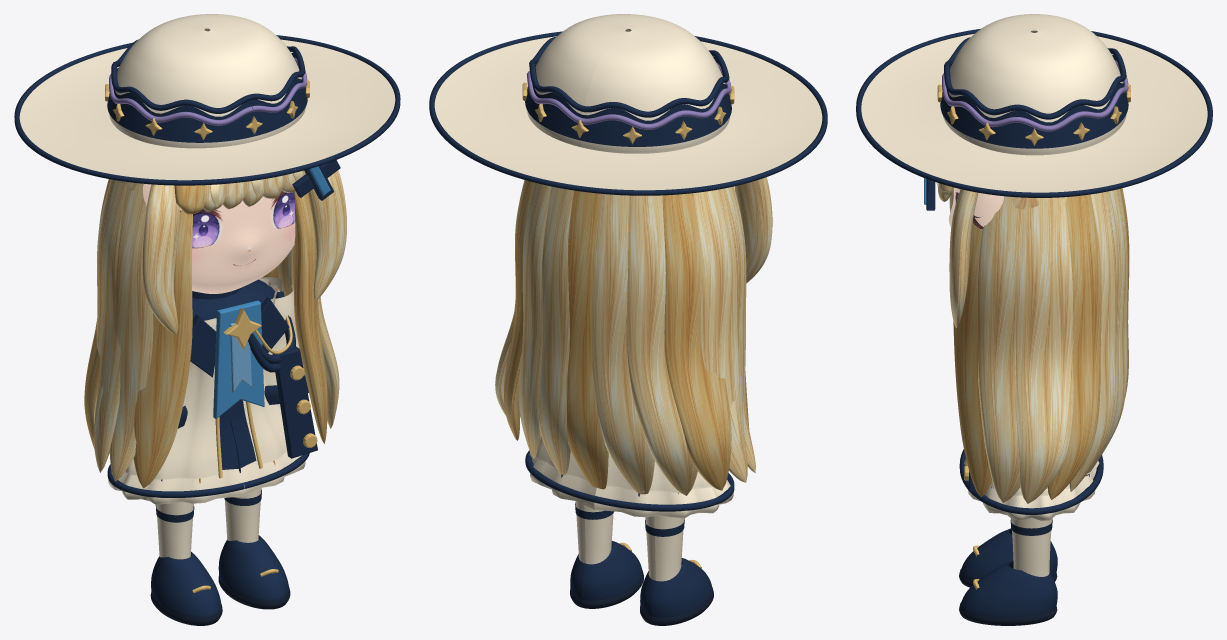
File: phoebe.glb
3 renders of one model, left to right at view 1: azimuth 30°, elevation 25°; view 2: azimuth 150°, elevation 25°; view 3: azimuth 270°, elevation 25°, orthographic. The views are drawn at different scales.
Visible parts, largest first — view 1: hat-brim, hat-dome, sculpted-face, long-lock-12, long-lock-11, shoe-upper (×2), white-tailored-coat, long-lock-10, long-lock-0, hat-navy-band, face-framing-lock--1, brim-ink-edge (+19 smaller); view 2: hat-brim, hat-dome, long-lock-9, long-lock-8, long-lock-7, long-lock-10, long-lock-6, long-lock-5, shoe-upper (×2), long-lock-4, hat-navy-band, brim-ink-edge (+12 smaller); view 3: hat-brim, long-lock-2, hat-dome, long-lock-1, long-lock-3, shoe-upper (×2), long-lock-4, long-lock-0, hat-navy-band, brim-ink-edge, face-framing-lock-1, long-lock-5 (+7 smaller).
Boxes of the visible parts, x1,y1,x2,y2 form: hat-brim: [19, 39, 395, 180]; hat-dome: [109, 14, 305, 148]; sculpted-face: [143, 184, 295, 293]; long-lock-12: [133, 210, 192, 488]; long-lock-11: [109, 183, 153, 481]; shoe-upper (×2): [151, 535, 288, 617]; white-tailored-coat: [125, 279, 286, 479]; long-lock-10: [93, 179, 126, 472]; long-lock-0: [294, 191, 327, 443]; hat-navy-band: [107, 52, 307, 142]; face-framing-lock--1: [142, 184, 179, 334]; brim-ink-edge: [14, 35, 400, 185]; hat-brim: [434, 36, 822, 190]; hat-dome: [527, 14, 729, 153]; long-lock-9: [662, 193, 731, 490]; long-lock-8: [626, 195, 697, 495]; long-lock-7: [592, 194, 654, 494]; long-lock-10: [693, 189, 747, 482]; long-lock-6: [566, 190, 608, 489]; long-lock-5: [539, 186, 573, 475]; shoe-upper (×2): [570, 541, 712, 617]; long-lock-4: [518, 182, 551, 458]; hat-navy-band: [525, 56, 731, 146]; brim-ink-edge: [429, 31, 827, 195]; hat-brim: [861, 34, 1207, 192]; long-lock-2: [1015, 197, 1074, 503]; hat-dome: [942, 14, 1126, 155]; long-lock-1: [977, 196, 1024, 502]; long-lock-3: [1047, 194, 1101, 499]; shoe-upper (×2): [960, 528, 1057, 617]; long-lock-4: [1069, 191, 1120, 491]; long-lock-0: [953, 222, 992, 497]; hat-navy-band: [940, 55, 1128, 148]; brim-ink-edge: [856, 28, 1212, 197]; face-framing-lock-1: [949, 189, 978, 327]; long-lock-5: [1085, 189, 1128, 476].
Bounding box in the file's own units: 2.13 × 3.32 × 1.9.
13 materials, 3 textured.
